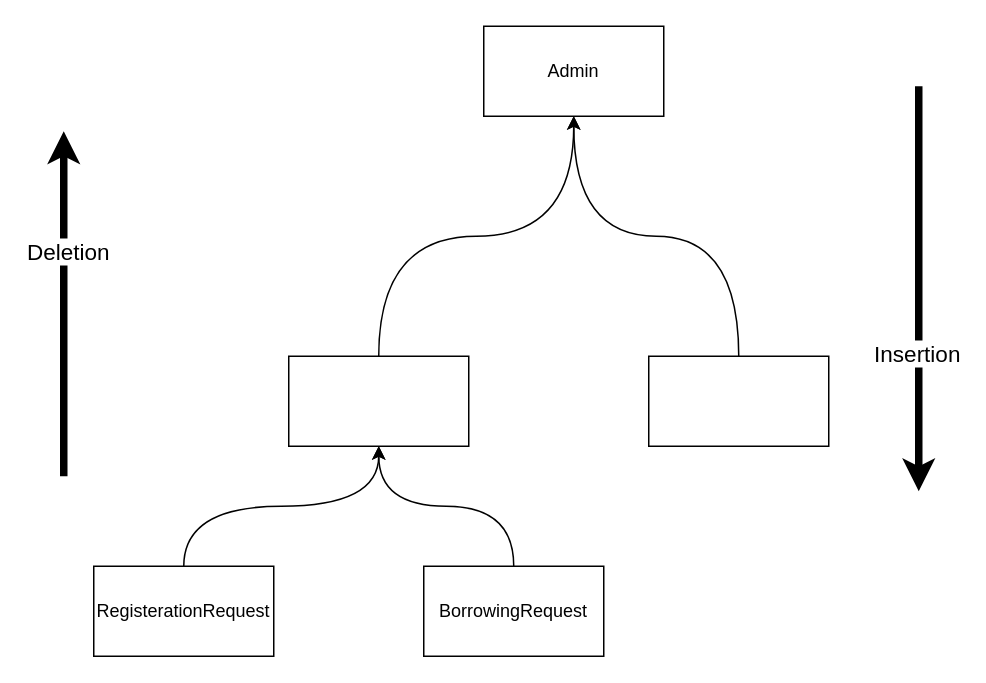
Some shapes in this 986 by 683 pixel diagram are drawn without their labels. The centre of each missing label's shape, as x and y in pixels:
Book: (738,400)
User: (378,400)
